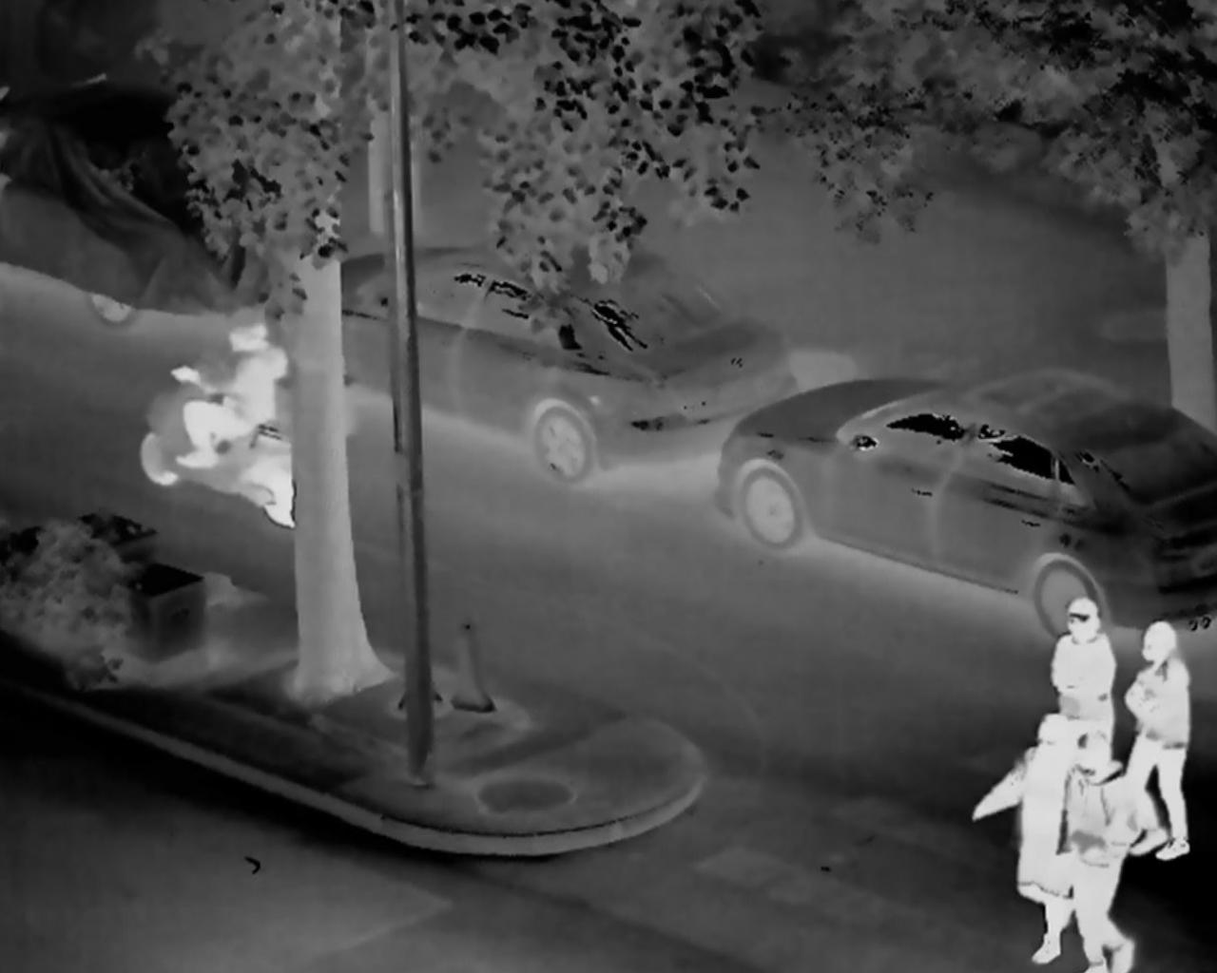person: (145, 315, 310, 504), (970, 706, 1076, 973), (1125, 609, 1217, 861), (1061, 731, 1153, 973), (1037, 584, 1125, 772)
